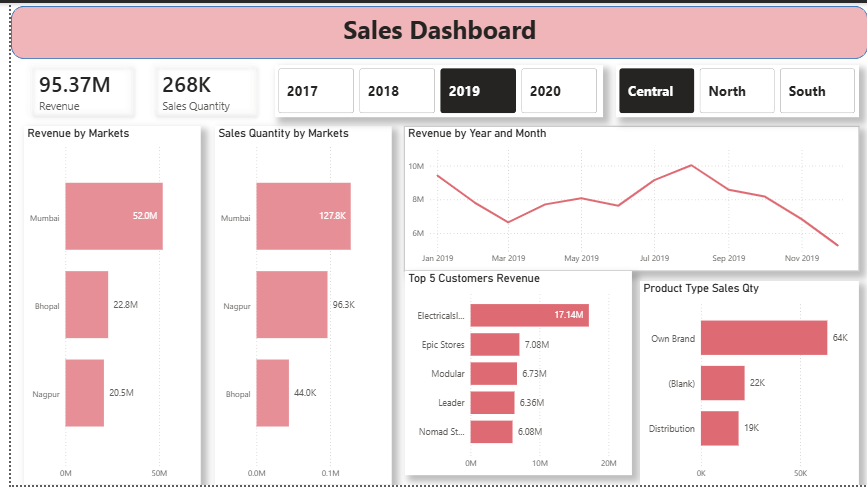

What the dashboard file says about the page in this screenshot:
{"tool":"powerbi","page":{"name":"Page 1","canvas":[1280,720],"ordinal":0},"visuals":[{"type":"cardVisual","fields":{"Data":["BaseMeasures.Revenue","BaseMeasures.Sales Quantity"]},"box":[0,64.2,394.4,132.9],"z":1000},{"type":"clusteredBarChart","title":"Revenue by Markets","fields":{"Y":["BaseMeasures.Revenue"],"Category":["public markets.markets_name"]},"box":[19.4,183.7,264.4,536.3],"z":2000},{"type":"clusteredBarChart","title":"Sales Quantity by Markets","fields":{"Y":["BaseMeasures.Sales Quantity"],"Category":["public markets.markets_name"]},"box":[304.7,183.7,264.4,536.3],"z":3000},{"type":"advancedSlicerVisual","fields":{"Values":["public date.year"]},"box":[394.4,92.6,490,77.7],"z":4000},{"type":"lineChart","fields":{"Y":["BaseMeasures.Revenue"],"Category":["public date.date.Variation.Date Hierarchy.Year","public date.date.Variation.Date Hierarchy.Month"]},"box":[587.1,183.7,679.7,216.6],"z":5000},{"type":"clusteredBarChart","title":"Top 5 Customers Revenue","fields":{"Y":["BaseMeasures.Revenue"],"Category":["public customers.custmer_name"]},"box":[587.1,415.3,339.1,304.7],"z":6000},{"type":"clusteredBarChart","title":" Product Type Sales Qty","fields":{"Y":["BaseMeasures.Sales Quantity"],"Category":["public products.product_type"]},"box":[939.6,415.3,327.1,304.7],"z":7000},{"type":"advancedSlicerVisual","fields":{"Values":["public markets.zone"]},"box":[903.7,92.6,363,77.7],"z":8000},{"type":"shape","box":[0,4.5,1280.2,79.2],"z":8750},{"type":"textbox","box":[491.5,9,366,83.7],"z":9500}]}

Visuals, with their boxes in screenshot pixels (x1, y1, x2, y2), scaled from the page's 1280x720 canvas onto the 867x489 screenshot:
cardVisual - BaseMeasures.Revenue x BaseMeasures.Sales Quantity: box(0, 44, 267, 134)
"Revenue by Markets" clusteredBarChart: box(13, 125, 192, 488)
"Sales Quantity by Markets" clusteredBarChart: box(206, 125, 385, 488)
advancedSlicerVisual - public date.year: box(267, 63, 599, 116)
lineChart - BaseMeasures.Revenue x public date.date.Variation.Date Hierarchy.Year: box(398, 125, 858, 272)
"Top 5 Customers Revenue" clusteredBarChart: box(398, 282, 627, 488)
" Product Type Sales Qty" clusteredBarChart: box(636, 282, 858, 488)
advancedSlicerVisual - public markets.zone: box(612, 63, 858, 116)
shape: box(0, 3, 866, 57)
textbox: box(333, 6, 581, 63)
